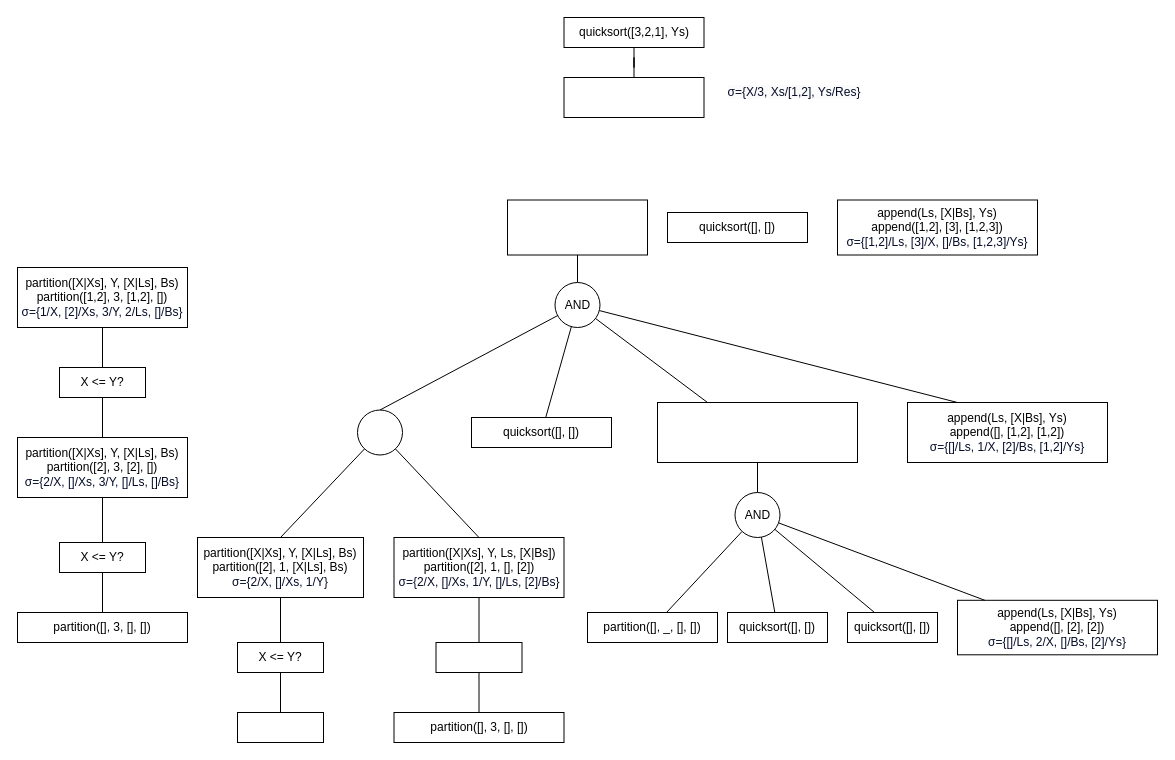
This 1175x760 diagram has some shape labels left out. Each missing label, with the centre of its shape:
"FAIL" goes at (x=280, y=727).
"OR" goes at (x=379, y=432).
"quicksort([X|Xs], Ys) quicksort([1,2], [1,2]) σ={1/X, [2]/Xs, [1,2]/Ys}" goes at (x=577, y=227).
"quicksort([X|Xs], Ys) quicksort([2], 2) σ={2/X, []/Xs, [2]/Ys}" goes at (x=757, y=432).
"quicksort([X|Xs], Ys) quicksort([3|2,1], Res)" goes at (x=633, y=97).
"X > Y?" goes at (x=478, y=657).
